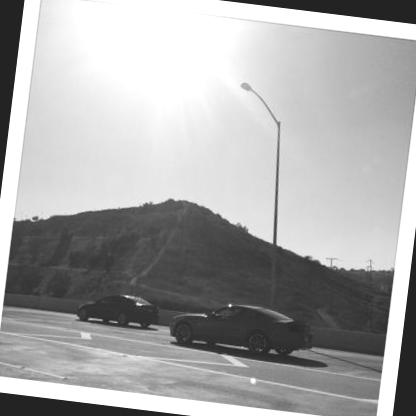car: (168, 294, 315, 364), (74, 288, 162, 334)
